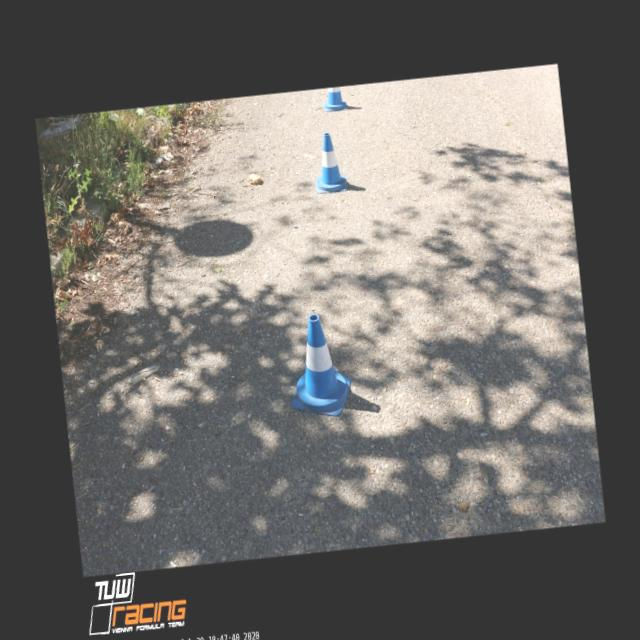blue_cone: (282, 312, 354, 419), (310, 130, 348, 192), (321, 86, 347, 111)
